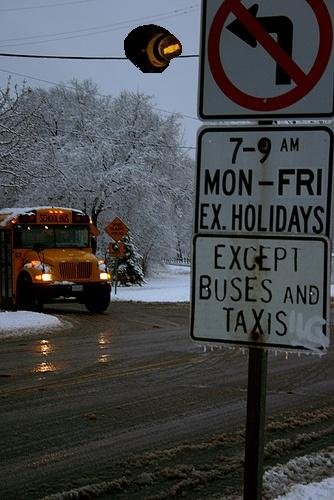tampered: (125, 25, 182, 73)
